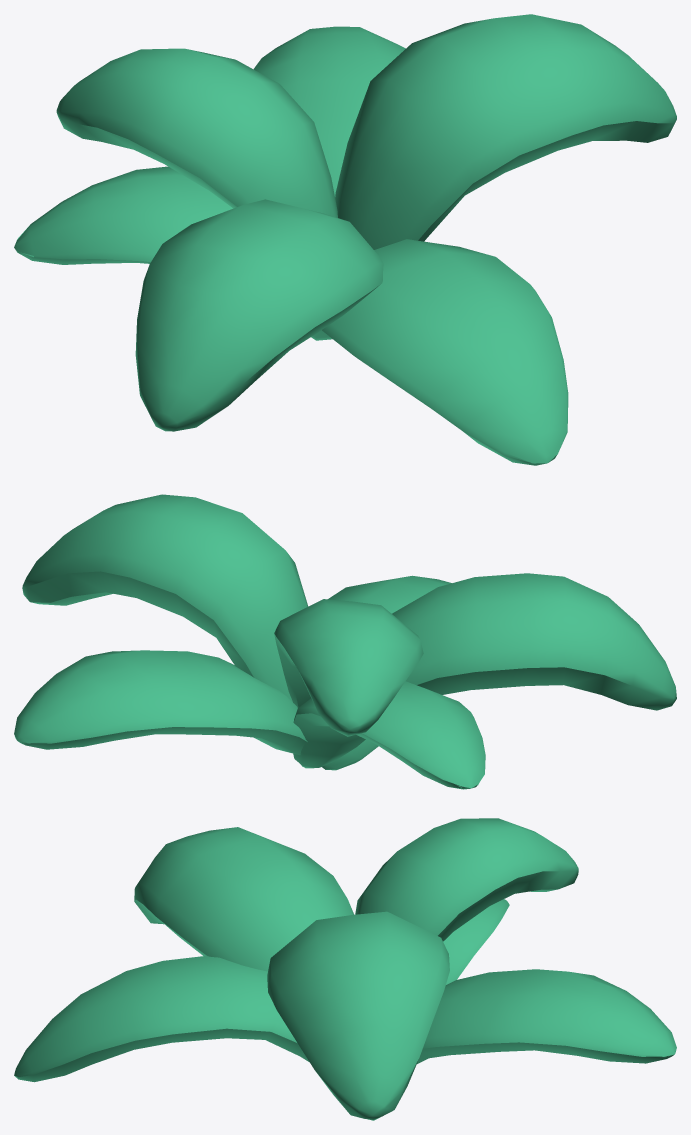
File: plantA_forest-col.glb
3 renders of one model, top to bottom at view 1: azimuth 30°, elevation 25°; view 2: azimuth 150°, elevation 25°; view 3: azimuth 270°, elevation 25°, orthographic. The views are drawn at different scales.
Parts seen in each view (by area): view 1: plantA_forest-col; view 2: plantA_forest-col; view 3: plantA_forest-col.
Part boxes in pixels (x1,y1,x2,y2): plantA_forest-col: (14, 14, 676, 465); plantA_forest-col: (14, 494, 676, 789); plantA_forest-col: (14, 818, 676, 1120).
Size of the model in its own units: 0.6713 by 0.2624 by 0.695.
